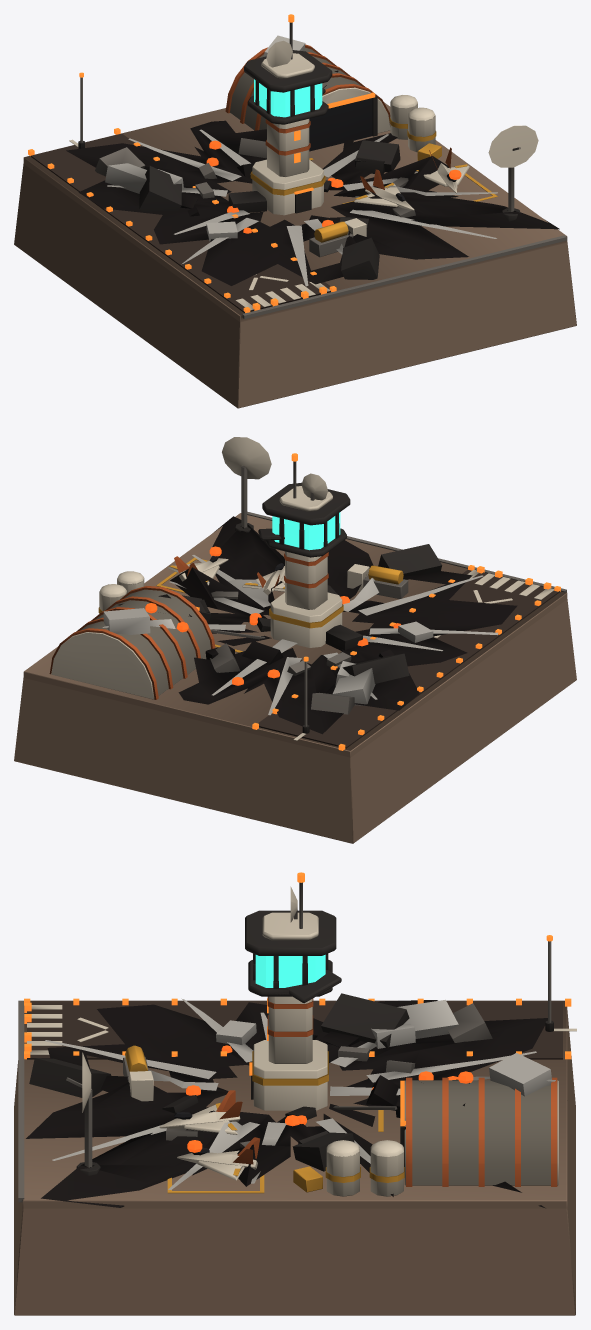
The model's file is airfield-khepri.glb.
The picture shows the model from 3 angles, top to bottom: view 1: azimuth 30°, elevation 25°; view 2: azimuth 150°, elevation 25°; view 3: azimuth 270°, elevation 25°; orthographic projection. The views are drawn at different scales.
Parts seen in each view (by area): view 1: site_airfield_khepri_body, site_airfield_khepri_ruin, site_airfield_khepri_core; view 2: site_airfield_khepri_body, site_airfield_khepri_ruin, site_airfield_khepri_core; view 3: site_airfield_khepri_body, site_airfield_khepri_ruin, site_airfield_khepri_core.
Part boxes in pixels (x1,y1,x2,y2): site_airfield_khepri_body: [14, 44, 576, 408]; site_airfield_khepri_ruin: [66, 35, 559, 286]; site_airfield_khepri_core: [244, 14, 332, 124]; site_airfield_khepri_body: [14, 437, 576, 843]; site_airfield_khepri_ruin: [102, 516, 517, 734]; site_airfield_khepri_core: [262, 453, 350, 557]; site_airfield_khepri_body: [14, 935, 576, 1315]; site_airfield_khepri_ruin: [26, 953, 555, 1208]; site_airfield_khepri_core: [245, 872, 336, 996].
Size of the model in its own units: 5.6 by 4.23 by 6.41.
